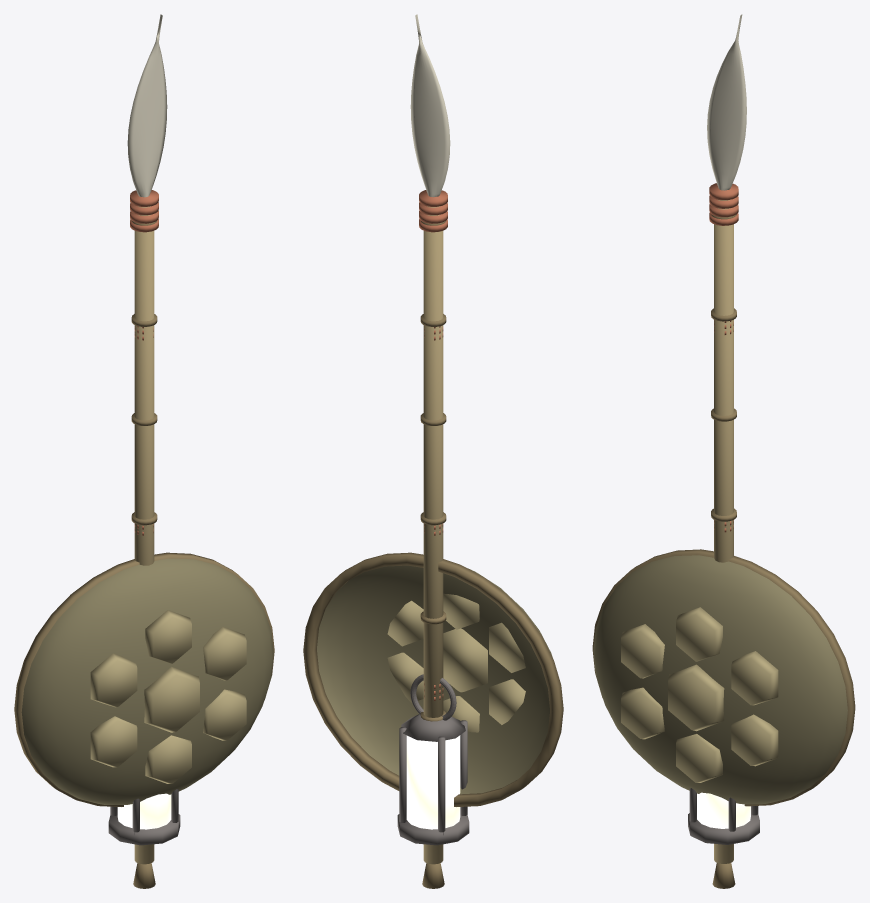
The model's file is gear.glb.
The picture shows the model from 3 angles, left to right: view 1: azimuth 30°, elevation 25°; view 2: azimuth 150°, elevation 25°; view 3: azimuth 330°, elevation 25°; orthographic projection.
Visible parts, largest first — view 1: shield, glaive, lantern; view 2: shield, glaive, lantern; view 3: shield, glaive, lantern.
Boxes of the visible parts, x1,y1,x2,y2 form: shield: (14,552,274,806); glaive: (127,14,167,888); lantern: (108,789,180,845); shield: (303,552,563,806); glaive: (410,14,450,888); lantern: (397,674,469,845); shield: (592,549,855,806); glaive: (707,14,746,888); lantern: (688,788,759,844).
Bounding box in the file's own units: 0.89 × 2.88 × 0.303.
